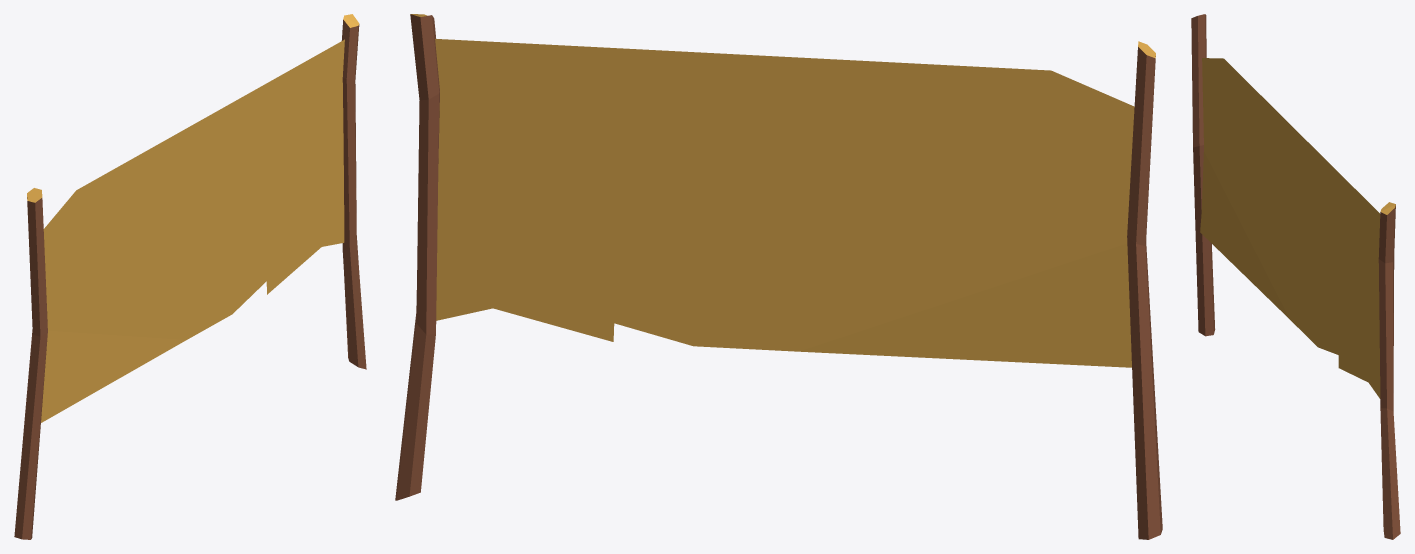
The model's file is table.fbx.
3 renders of one model, left to right at view 1: azimuth 30°, elevation 25°; view 2: azimuth 150°, elevation 25°; view 3: azimuth 270°, elevation 25°, orthographic. The views are drawn at different scales.
Visible parts, largest first — view 1: table; view 2: table; view 3: table.
Boxes of the visible parts, x1=… form: table: x1=14, y1=14, x2=366, y2=539; table: x1=395, y1=14, x2=1162, y2=539; table: x1=1191, y1=14, x2=1400, y2=539.
Size of the model in its own units: 684 by 519 by 298.
